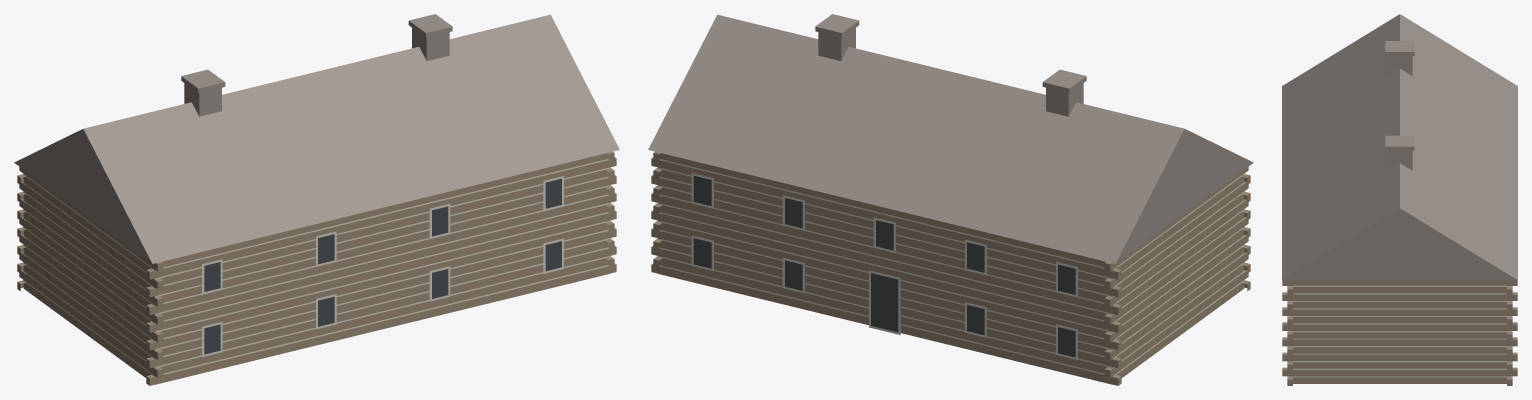
File: fort_dearborn_officers_quarters__log_1816.glb
3 renders of one model, left to right at view 1: azimuth 30°, elevation 25°; view 2: azimuth 150°, elevation 25°; view 3: azimuth 270°, elevation 25°, orthographic. The views are drawn at different scales.
Parts seen in each view (by area): view 1: fort_dearborn_officers_quarters__log_1816; view 2: fort_dearborn_officers_quarters__log_1816; view 3: fort_dearborn_officers_quarters__log_1816.
Boxes of the visible parts, x1=… form: fort_dearborn_officers_quarters__log_1816: x1=14, y1=14, x2=619, y2=385; fort_dearborn_officers_quarters__log_1816: x1=648, y1=14, x2=1253, y2=385; fort_dearborn_officers_quarters__log_1816: x1=1282, y1=14, x2=1517, y2=385.
Size of the model in its own units: 18.79 by 8.9 by 9.64.
